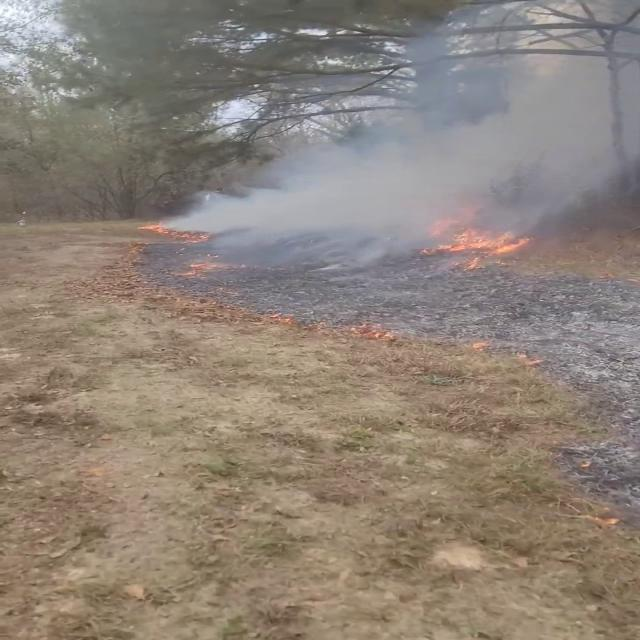Fire: (424, 220, 532, 266)
Smoke: (168, 0, 640, 314)
